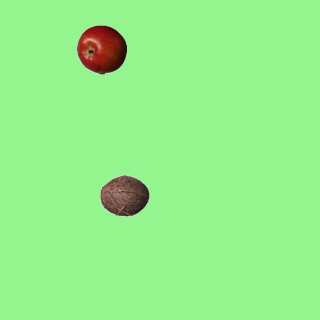Apple Braeburn: (76, 24, 126, 74)
Cocos: (99, 170, 149, 220)
